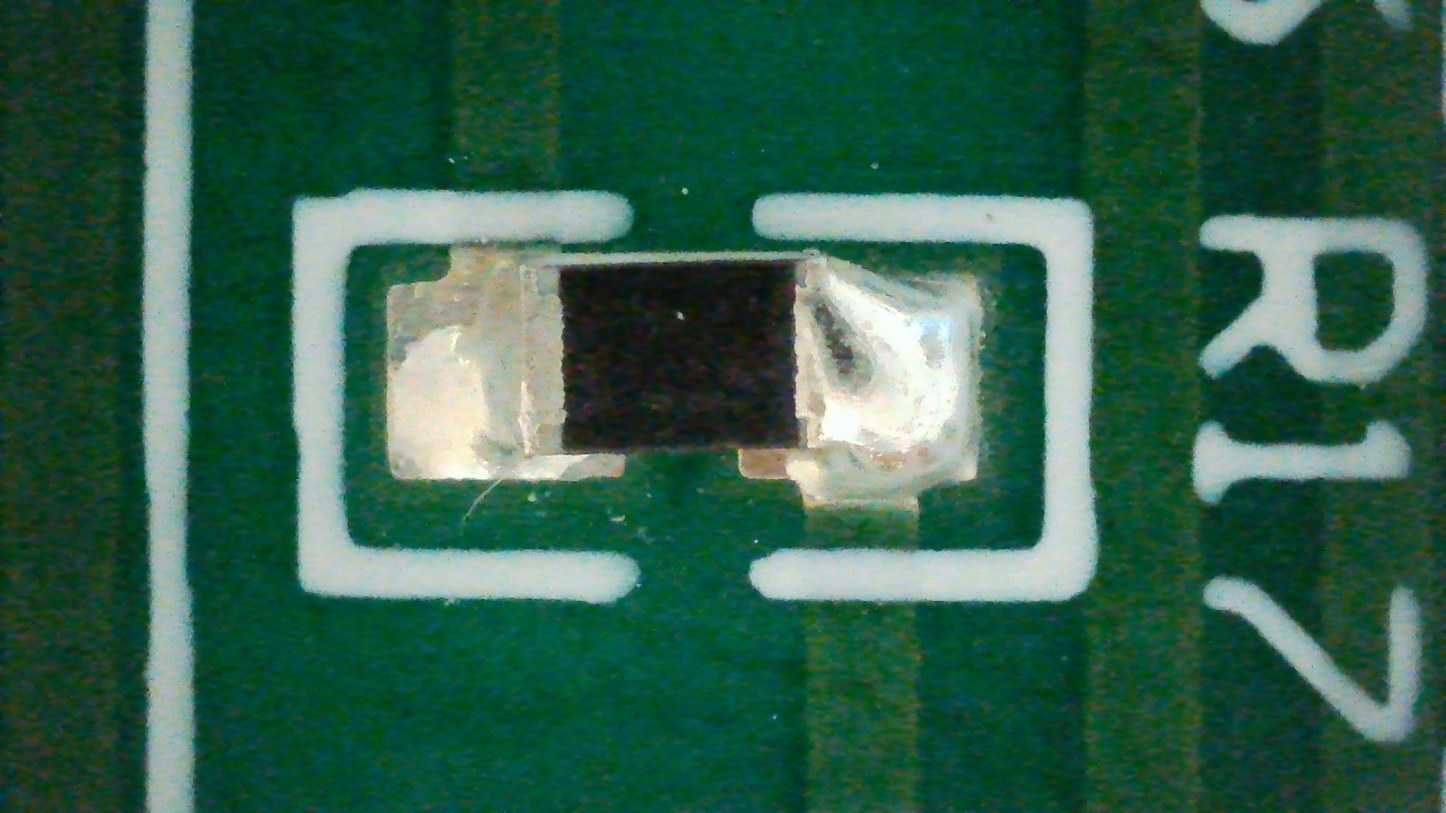NG: (384, 243, 983, 507)
